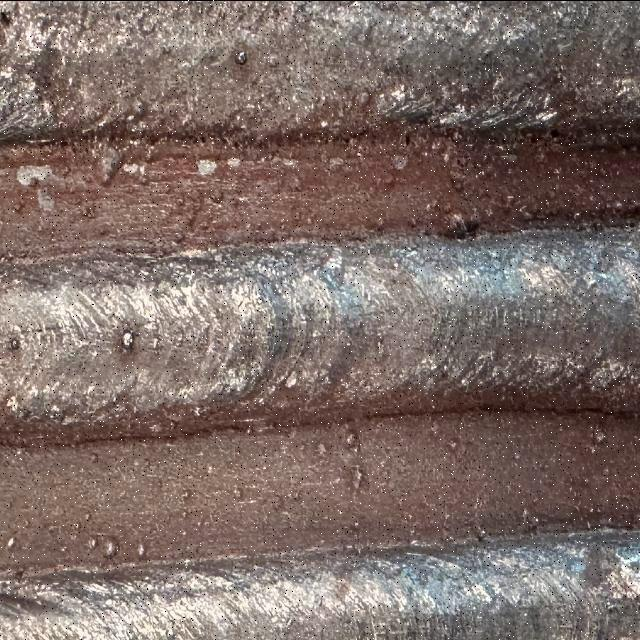Spatters: (121, 328, 135, 350), (105, 537, 119, 557), (344, 430, 359, 447), (236, 50, 248, 63), (138, 542, 145, 557), (89, 537, 98, 548), (448, 440, 458, 448), (8, 537, 15, 547), (354, 522, 359, 527)
